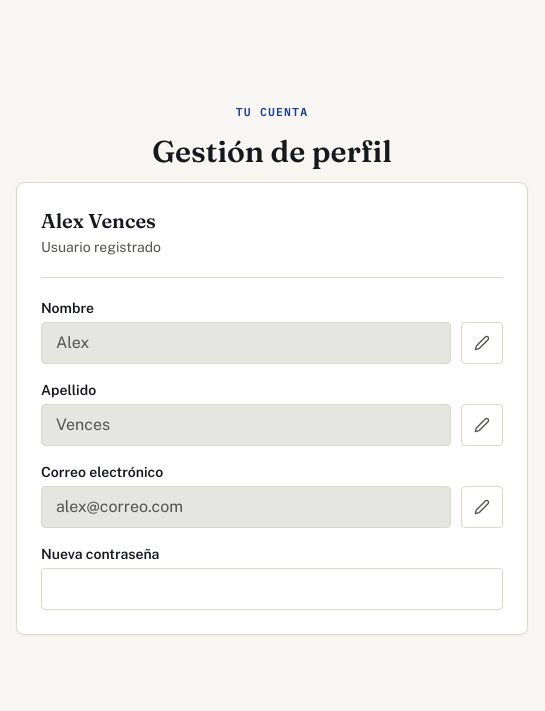
Scenario: GestionarPerfil: cambio de correo y contraseña › changing the email sends current_password and the new email
Click the button named "Editar correo".
click(482, 507)  # box [461,486,503,528]
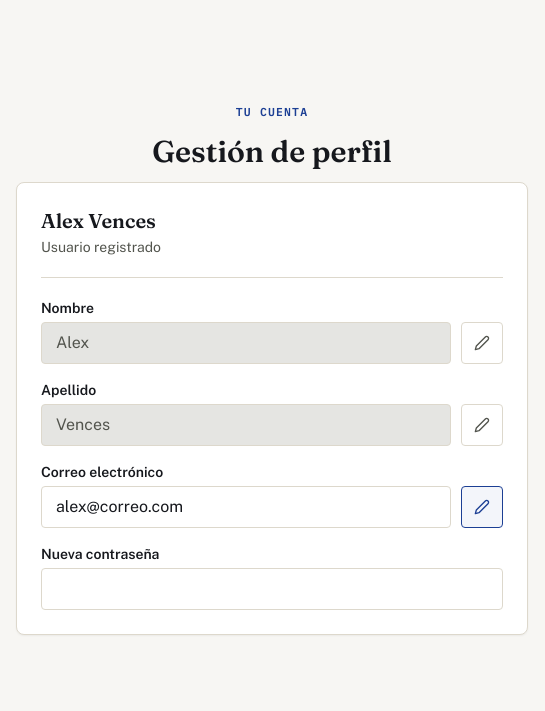
Replace the text in the field labelled "Correo electrónico" with "Nuevo@Correo.com" at (246, 507), box [41,486,451,528]
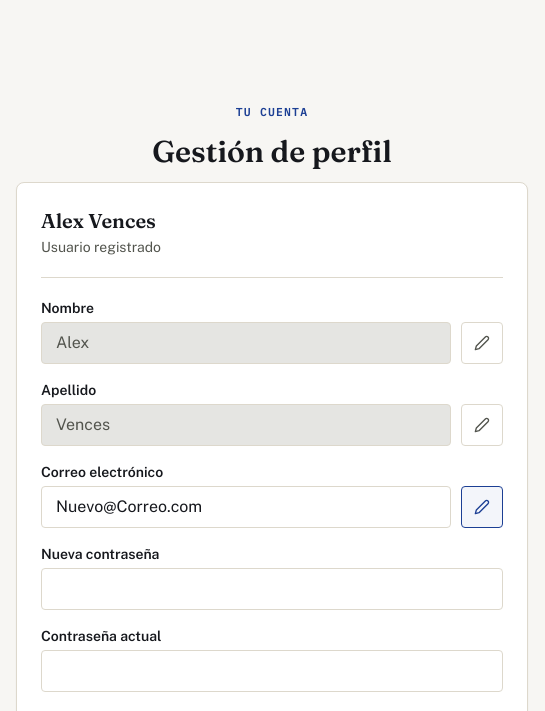
Type "Secreta123" into the password field labelled "Contraseña actual".
click(272, 671); type("Secreta123")  # box [41,650,503,692]
(page scrolled)
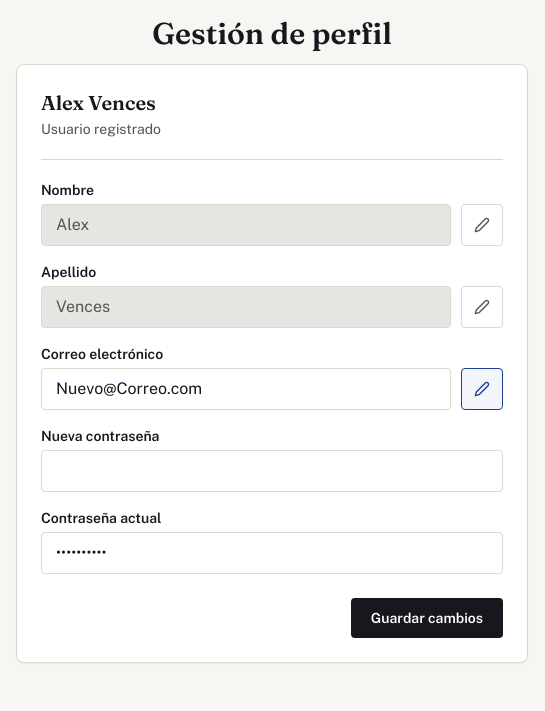
Click the button "Guardar cambios".
click(427, 618)  # box [351,598,503,638]
(page scrolled)
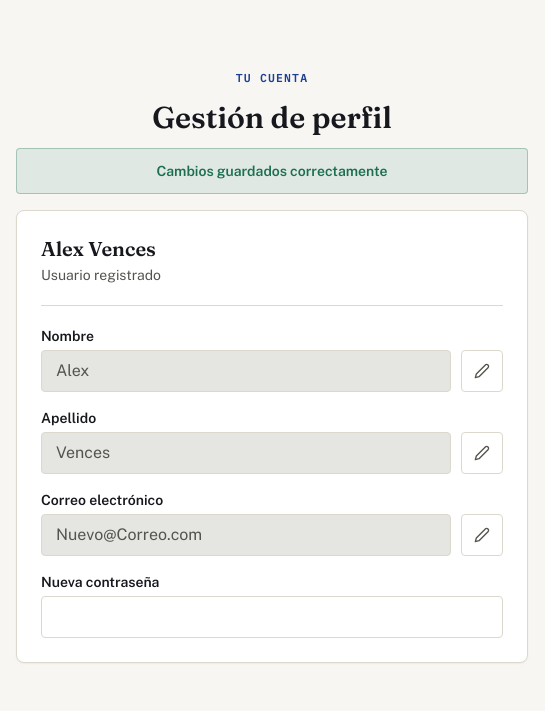
Check: the text "Cambios guardados correctamente" is shown, box [16,148,528,194]
